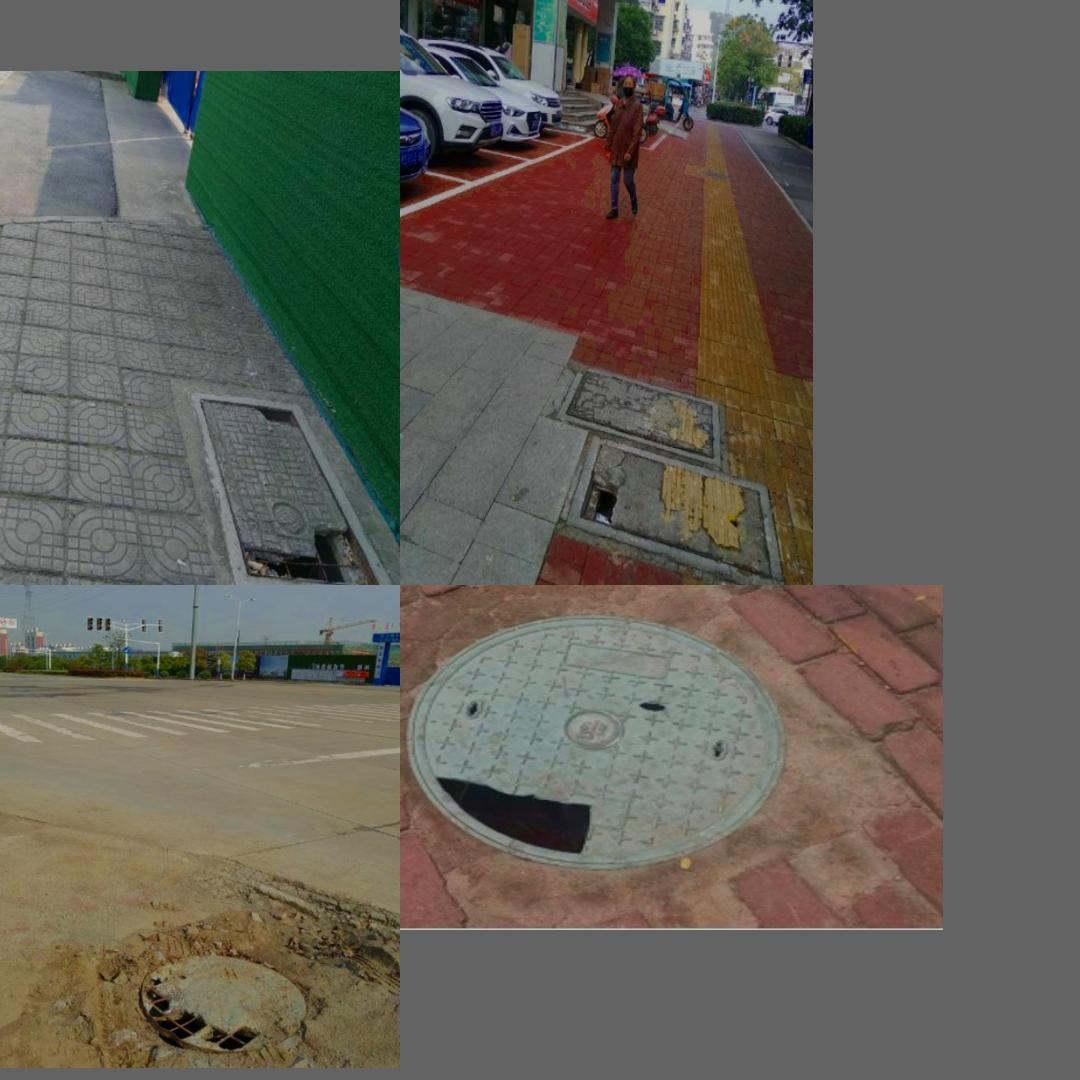broke: (427, 621, 779, 859), (190, 393, 393, 585), (562, 434, 788, 585), (139, 955, 308, 1057)
good: (557, 364, 721, 465)
